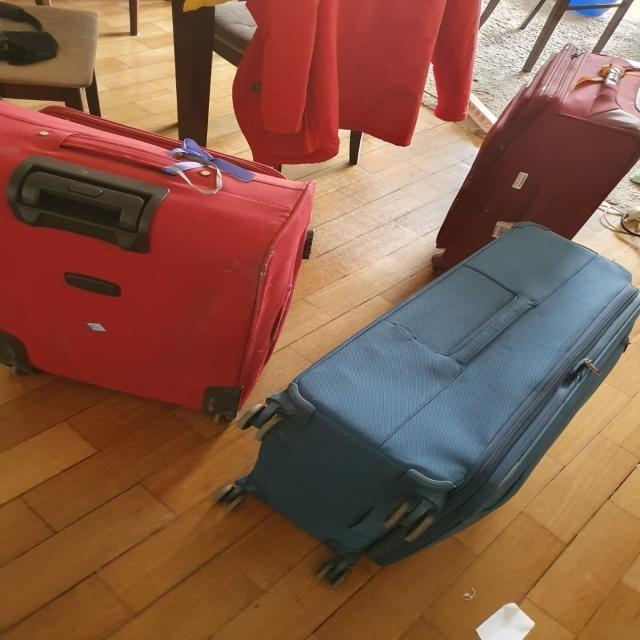Suitcase: (210, 218, 640, 587), (0, 92, 318, 423), (434, 43, 640, 269)
